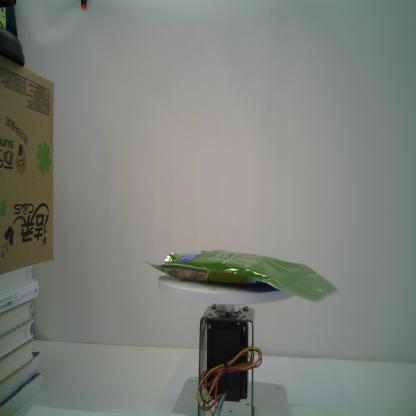Dried Fruit: (141, 248, 341, 303)
